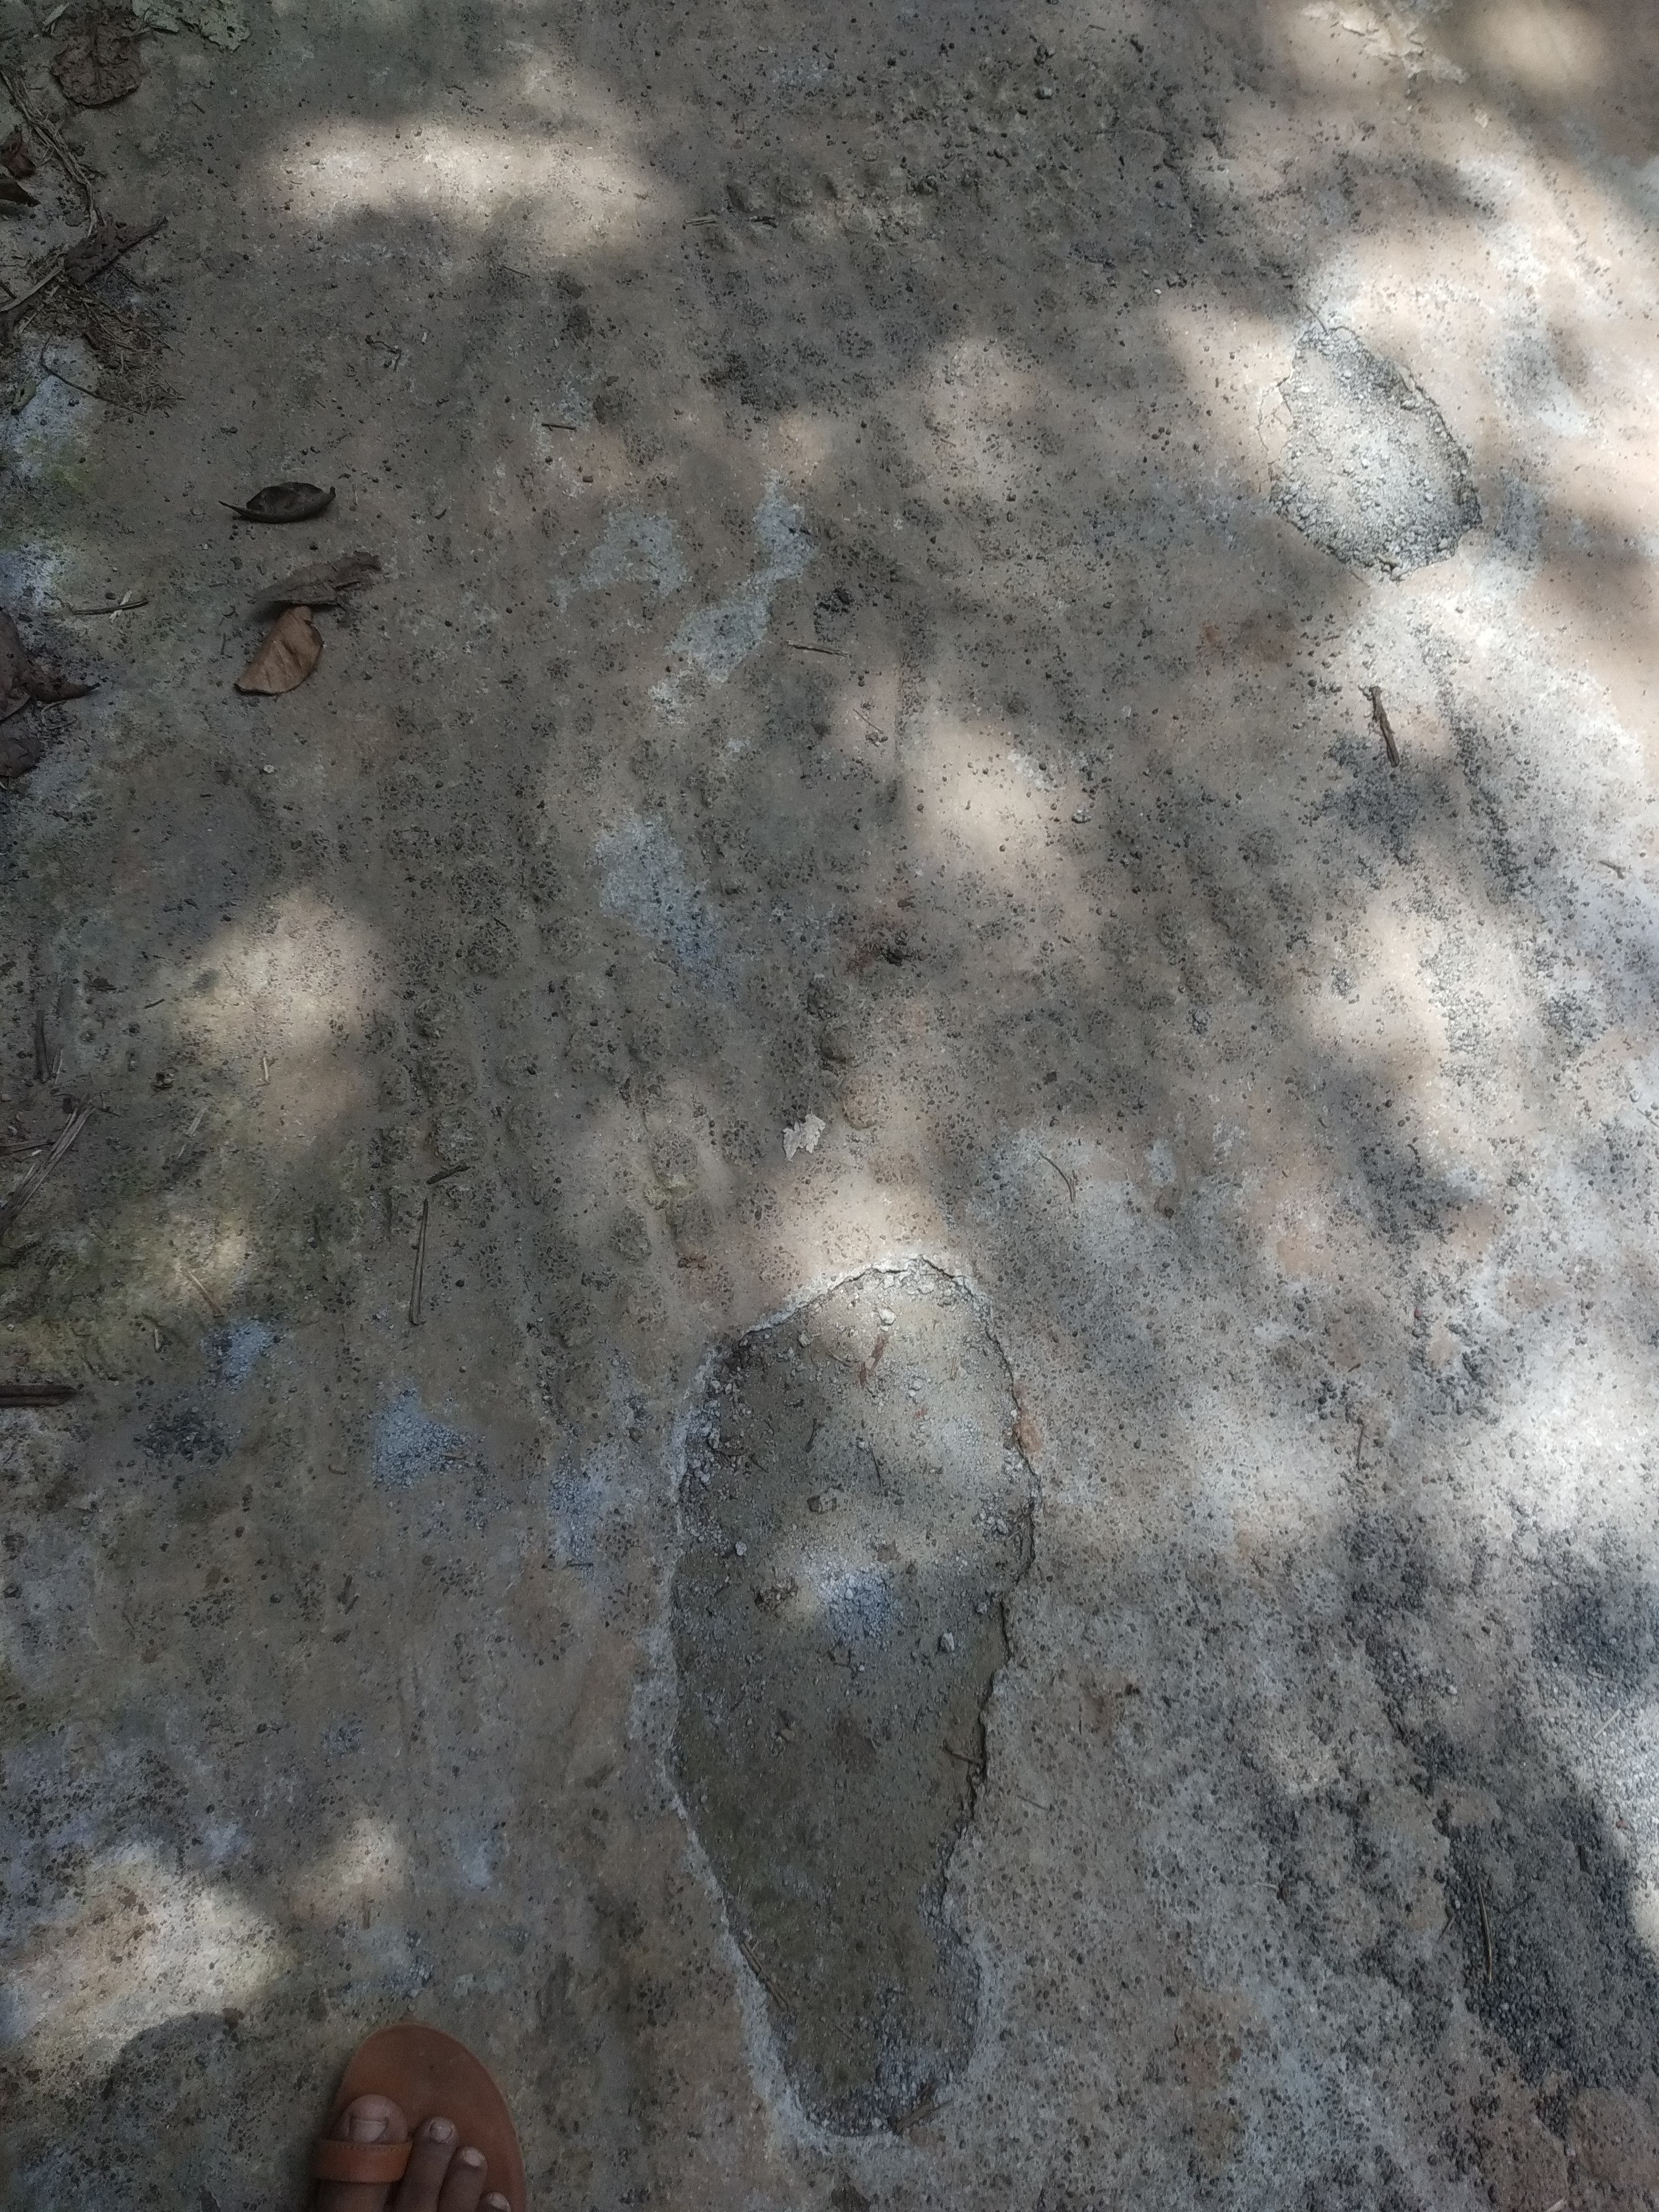potholes: (652, 1256, 1063, 2168)
